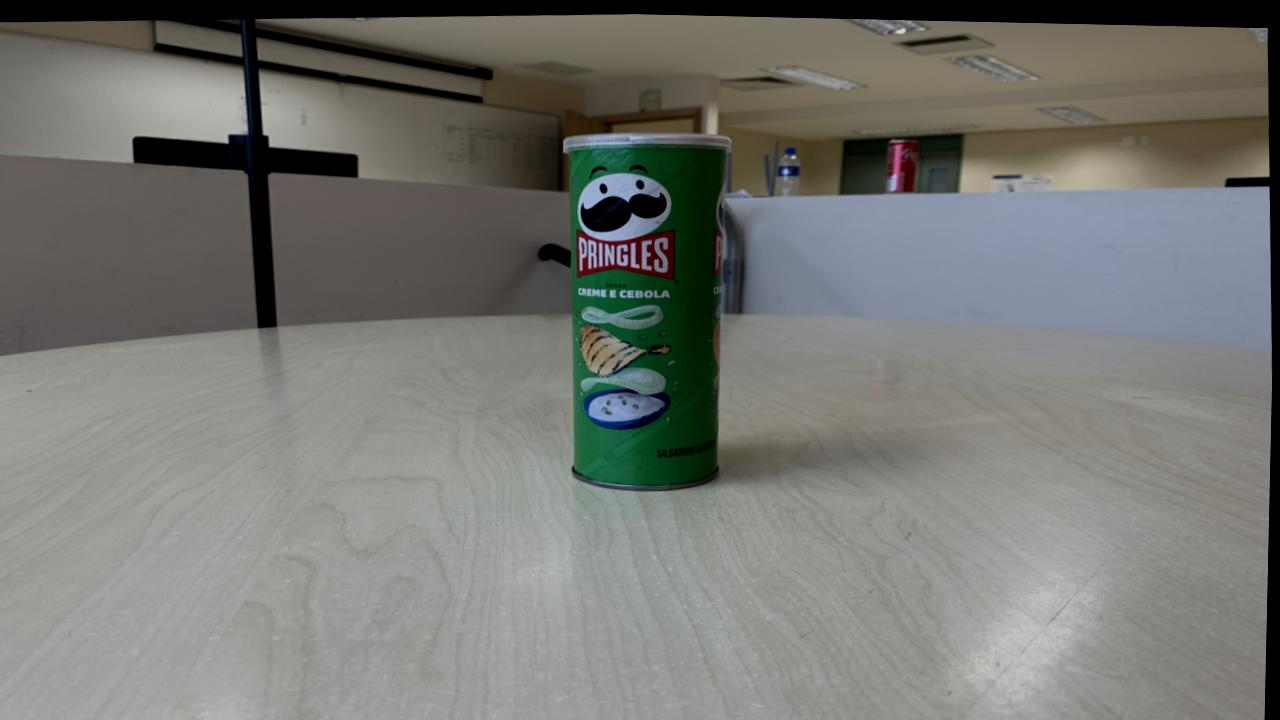Coke-Drinks: (886, 135, 920, 190)
Pringles-Snacks: (562, 131, 731, 490)
Water_Bottle-Drinks: (776, 144, 802, 193)
